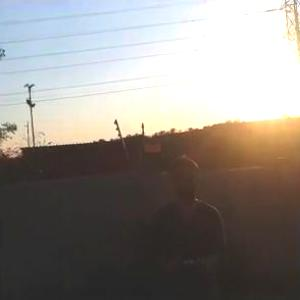follow: (146, 151, 235, 299)
